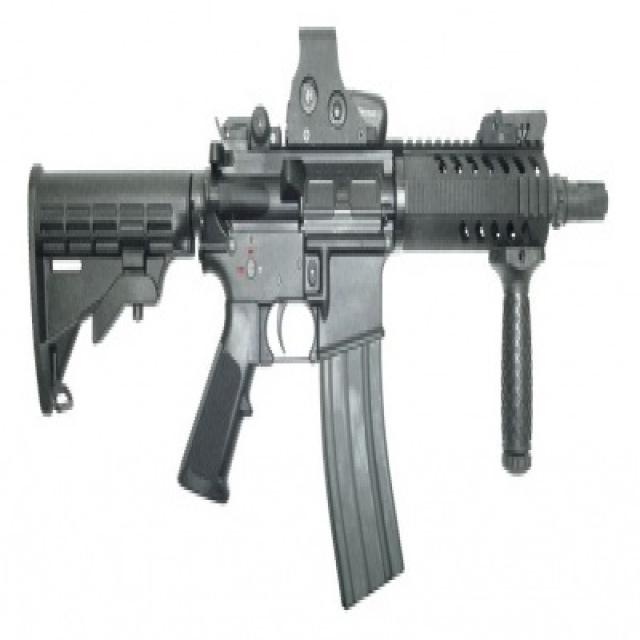rifle: (16, 19, 612, 627)
